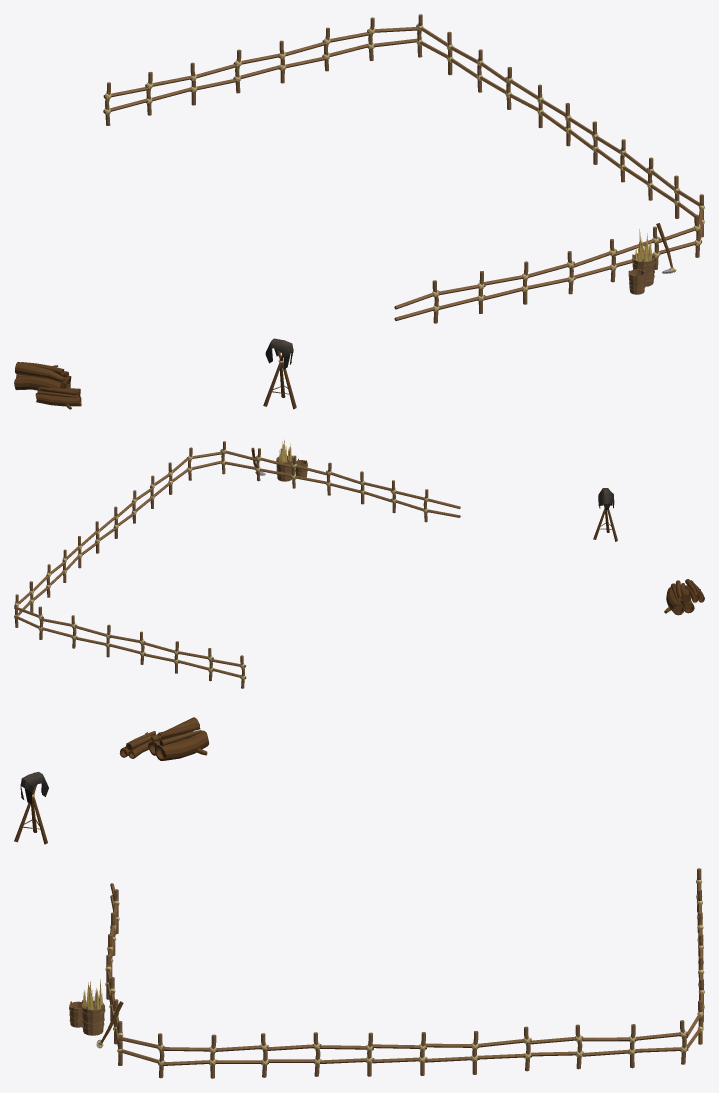
The picture shows the model from 3 angles, top to bottom: view 1: azimuth 30°, elevation 25°; view 2: azimuth 150°, elevation 25°; view 3: azimuth 270°, elevation 25°; orthographic projection. The views are drawn at different scales.
Visible parts, largest first — view 1: Branchesstack.001, HideDryer, Branchesstack.002, Basket with grain; view 2: Branchesstack.001, HideDryer, Basket with grain; view 3: Branchesstack.001, HideDryer, Basket with grain, Fence4.009, Fence4.005, Fence3.011, Fence4.008, Fence4.006, Fence3.012, Fence4.007, Fence3.014, Fence3.007 (+2 smaller).
Part boxes in pixels (box(x1,y1,x2,y2)): Branchesstack.001: box(14, 362, 71, 390); HideDryer: box(263, 338, 296, 409); Branchesstack.002: box(35, 386, 81, 409); Basket with grain: box(632, 229, 655, 286); Branchesstack.001: box(664, 580, 694, 615); HideDryer: box(593, 488, 617, 541); Basket with grain: box(276, 440, 293, 481); Branchesstack.001: box(148, 717, 209, 760); HideDryer: box(14, 772, 48, 844); Basket with grain: box(81, 979, 105, 1035); Fence4.009: box(582, 1024, 637, 1068); Fence4.005: box(162, 1034, 217, 1078); Fence3.011: box(477, 1026, 532, 1071); Fence4.008: box(372, 1032, 427, 1075); Fence4.006: box(320, 1032, 374, 1076); Fence3.012: box(529, 1024, 583, 1069); Fence4.007: box(424, 1031, 479, 1074); Fence3.014: box(635, 1020, 688, 1064); Fence3.007: box(267, 1032, 321, 1076).
Size of the model in its own units: 15.08 by 1.34 by 12.98.
Materials: 12 (12 with a texture image).
